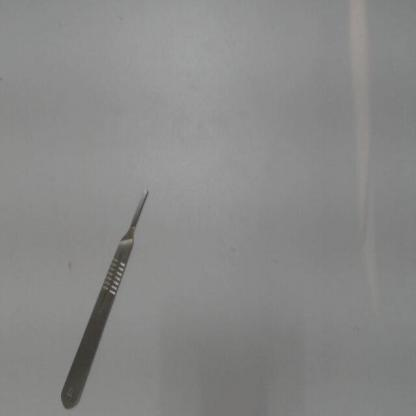No.4 BP Handle: (53, 184, 160, 415)
